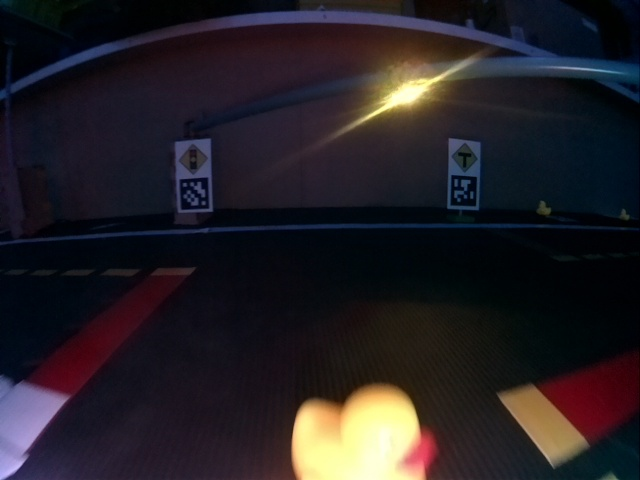Duckie: (292, 385, 432, 478), (538, 202, 550, 215), (620, 210, 629, 220)
Intersection sign: (451, 142, 478, 172)
QR code: (178, 177, 210, 210), (449, 174, 478, 207)
Signal sign: (178, 143, 209, 176)
